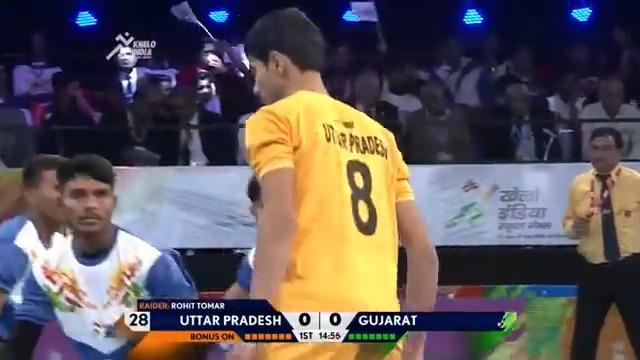Player: (8, 152, 200, 359), (211, 173, 263, 358)
Raider: (239, 6, 440, 358)
referee: (560, 126, 639, 358)
